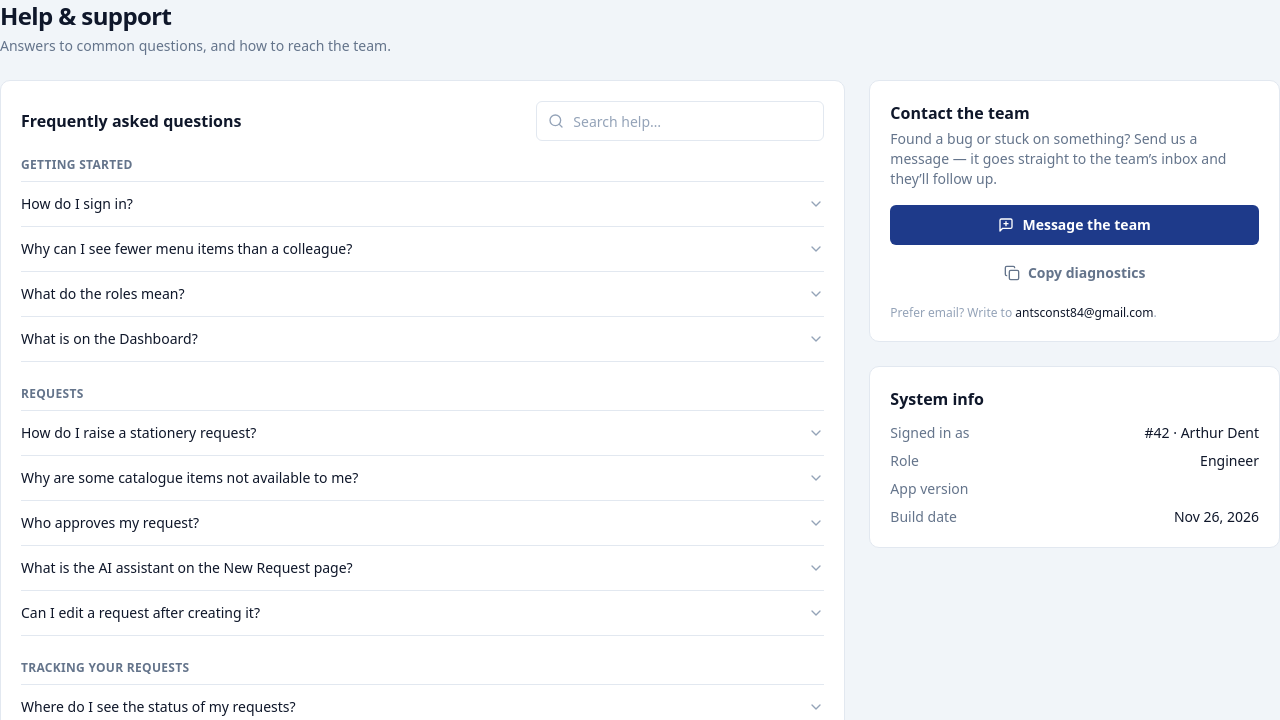
Help page › filters questions as you type
Type "reset" into the search field labelled "Search help…" at [680, 121], box [536,101,824,141]
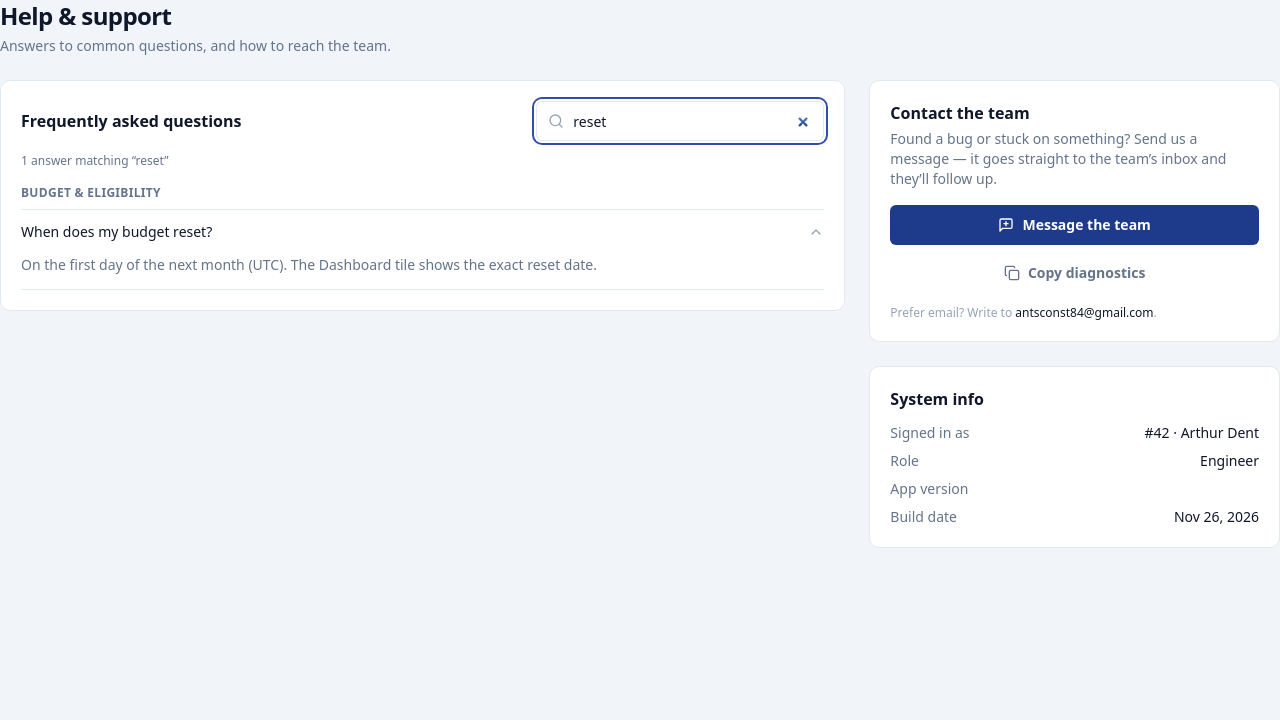
Expected: the heading "When does my budget reset?" is shown, [21,222,824,241]
Result: the heading "How do I sign in" is gone
